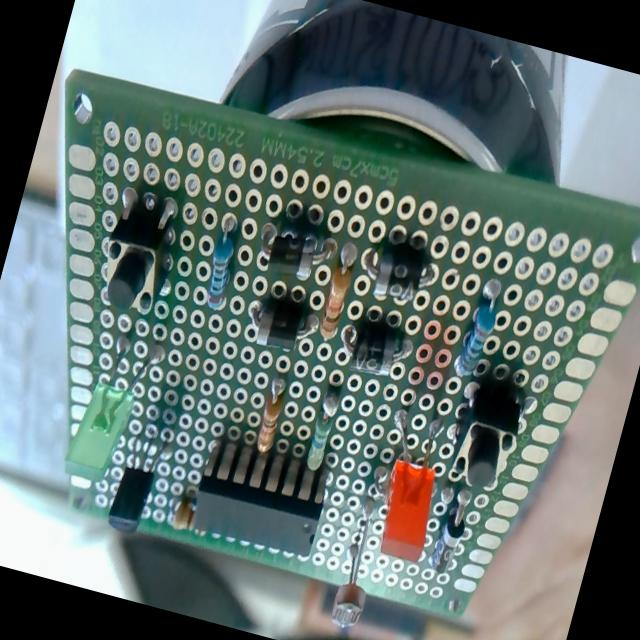IC: (185, 432, 334, 560)
cds: (316, 492, 392, 638)
diode: (326, 313, 424, 397), (246, 204, 340, 289), (354, 231, 446, 315), (237, 288, 323, 358), (422, 484, 478, 588)
led: (49, 321, 168, 491), (351, 394, 463, 570)
resistor: (312, 225, 364, 354), (438, 284, 503, 384), (190, 210, 248, 322), (296, 380, 348, 474), (242, 368, 294, 454)
switch: (84, 178, 196, 320), (440, 374, 530, 496)
transistor: (95, 415, 183, 545)
